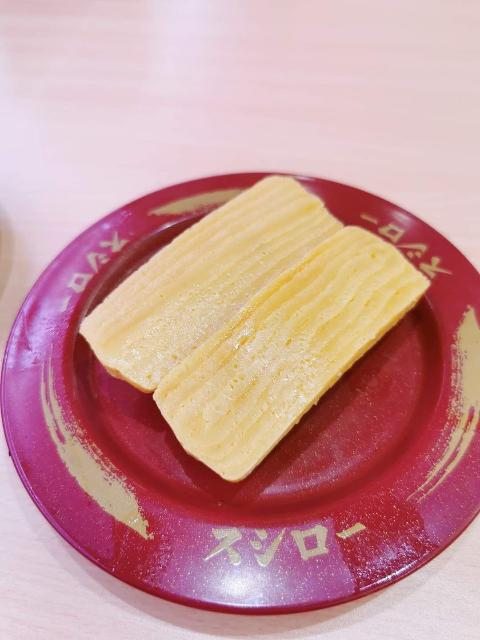janred: (0, 222, 480, 590)
